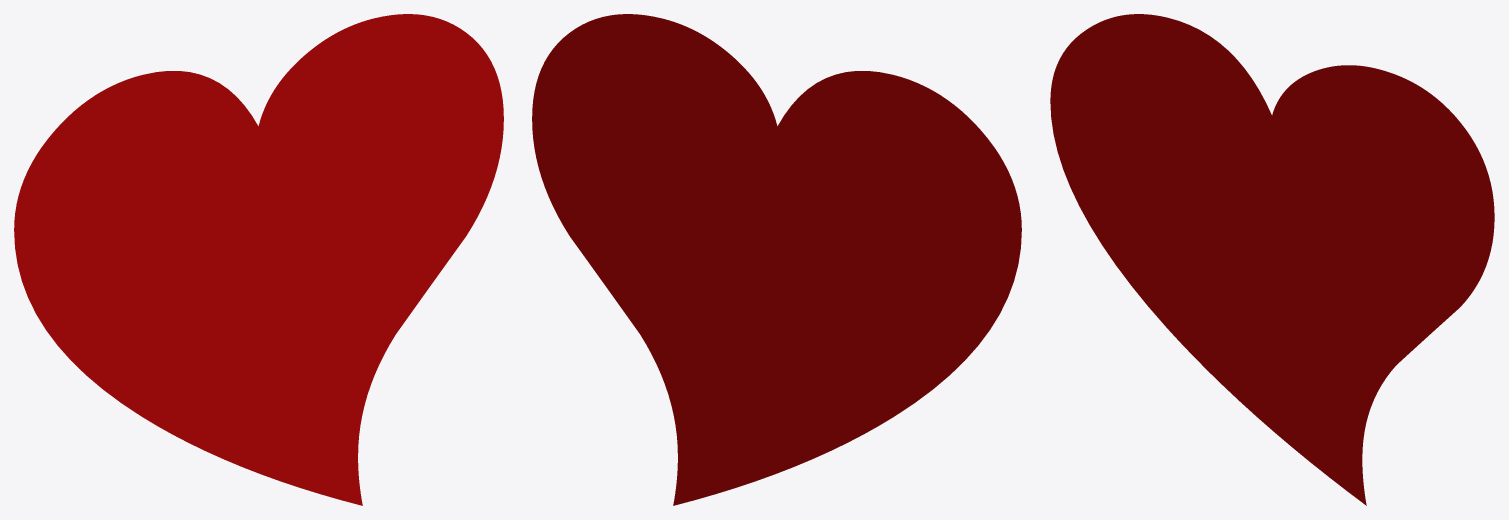
The model's file is Heart.obj.
3 renders of one model, left to right at view 1: azimuth 30°, elevation 25°; view 2: azimuth 150°, elevation 25°; view 3: azimuth 330°, elevation 25°, orthographic. The views are drawn at different scales.
Visible parts, largest first — view 1: Heart; view 2: Heart; view 3: Heart.
Boxes of the visible parts, bbox=[...] form: Heart: bbox=[14, 14, 503, 505]; Heart: bbox=[532, 14, 1021, 505]; Heart: bbox=[1050, 14, 1494, 505].
Bounding box in the file's own units: 0.7495 × 0.709 × 0.
